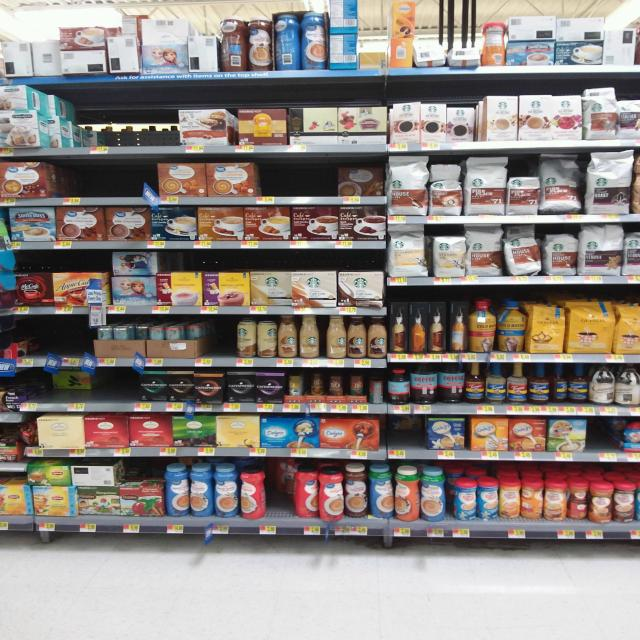void: (57, 163, 107, 207), (80, 106, 120, 155), (110, 162, 152, 207), (296, 156, 333, 204), (154, 100, 183, 156), (100, 368, 135, 413), (273, 465, 293, 536), (589, 418, 621, 462), (3, 321, 32, 368), (264, 159, 294, 204), (38, 321, 66, 369), (125, 103, 149, 158), (208, 319, 234, 369), (70, 321, 96, 368)
